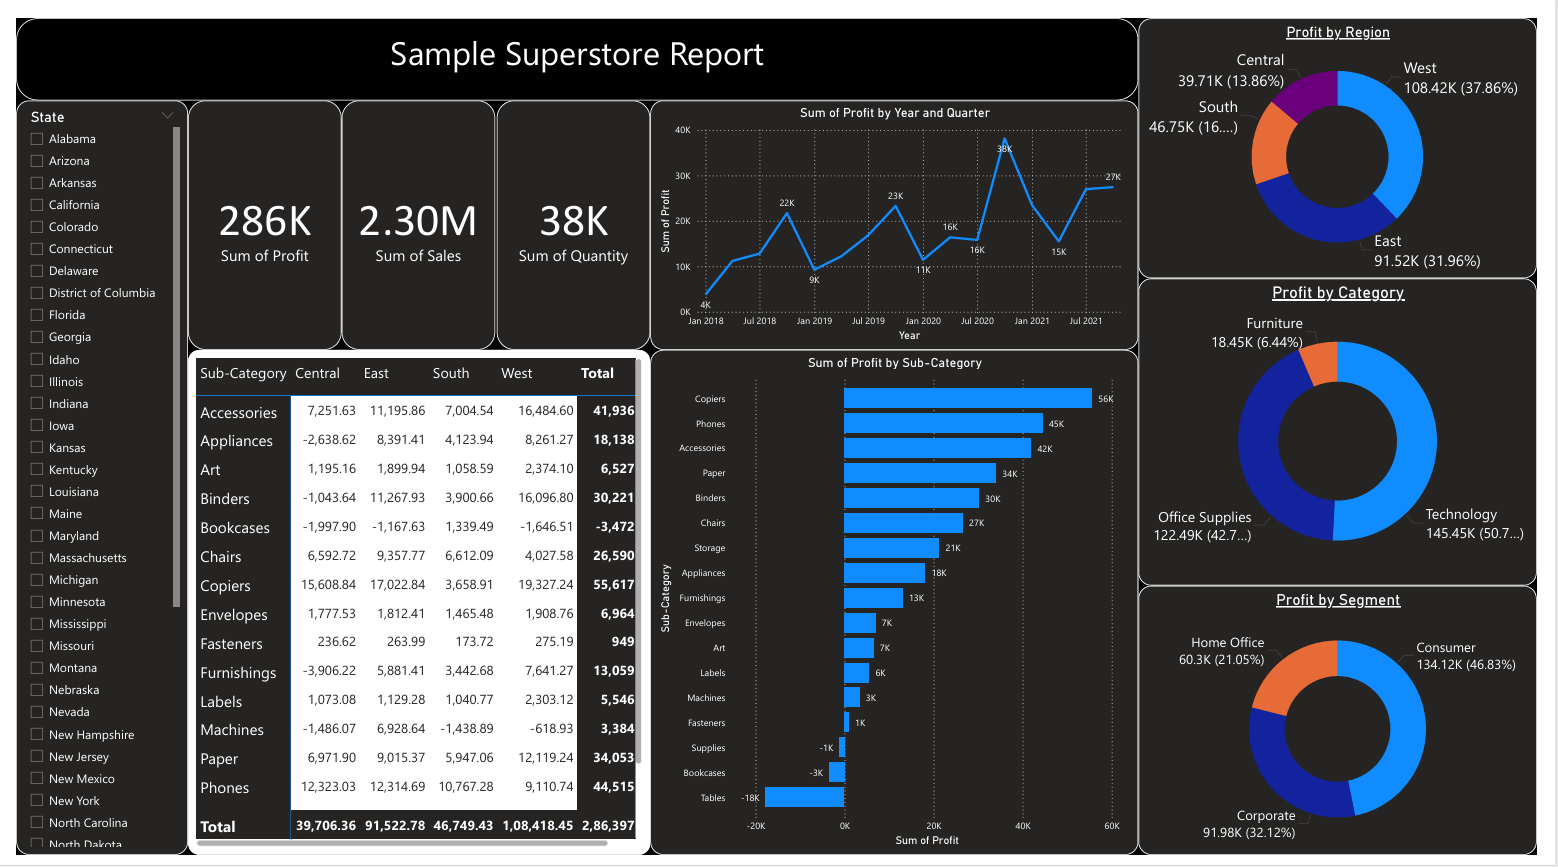

This screenshot's page, from the dashboard's own definition file:
{"tool":"powerbi","page":{"name":"Page 1","canvas":[2000,1100],"ordinal":0},"visuals":[{"type":"textbox","box":[0,0,1476,108],"z":0},{"type":"donutChart","title":" Profit by Segment","fields":{"Category":["Orders.Segment"],"Y":["Sum(Orders.Profit)"]},"box":[1476,746,524,354],"z":1000},{"type":"donutChart","title":" Profit by Category","fields":{"Y":["Sum(Orders.Profit)"],"Category":["Orders.Category"]},"box":[1476,342,524,404],"z":2000},{"type":"donutChart","title":" Profit by Region","fields":{"Y":["Sum(Orders.Profit)"],"Category":["Orders.Region"]},"box":[1476,0,524,342],"z":3000},{"type":"barChart","fields":{"Category":["Orders.Sub-Category"],"Y":["Sum(Orders.Profit)"]},"box":[834,436,642,664],"z":4000},{"type":"lineChart","fields":{"Y":["Sum(Orders.Profit)"],"Category":["Orders.Order Date.Variation.Date Hierarchy.Year","Orders.Order Date.Variation.Date Hierarchy.Quarter"]},"box":[834,108,642,328],"z":5000},{"type":"slicer","fields":{"Values":["Orders.State"]},"box":[0,108,226,992],"z":6000},{"type":"pivotTable","fields":{"Rows":["Orders.Sub-Category"],"Columns":["Orders.Region"],"Values":["Sum(Orders.Profit)"]},"box":[226,436,608,664],"z":7000},{"type":"card","fields":{"Values":["Sum(Orders.Profit)"]},"box":[226,108,202,328],"z":8000},{"type":"card","fields":{"Values":["Sum(Orders.Sales)"]},"box":[428,108,202,328],"z":9000},{"type":"card","fields":{"Values":["Sum(Orders.Quantity)"]},"box":[632,108,202,328],"z":10000}]}

Visuals, with their boxes in screenshot pixels (x1, y1, x2, y2), scaled from the page's 2000x1100 canvas onto the 1558x867 screenshot:
textbox: [0,0,1150,85]
" Profit by Segment" donutChart: [1150,588,1557,866]
" Profit by Category" donutChart: [1150,270,1557,588]
" Profit by Region" donutChart: [1150,0,1557,270]
barChart - Orders.Sub-Category x Sum(Orders.Profit): [650,344,1150,866]
lineChart - Sum(Orders.Profit) x Orders.Order Date.Variation.Date Hierarchy.Year: [650,85,1150,344]
slicer - Orders.State: [0,85,176,866]
pivotTable - Orders.Sub-Category x Orders.Region: [176,344,650,866]
card - Sum(Orders.Profit): [176,85,333,344]
card - Sum(Orders.Sales): [333,85,491,344]
card - Sum(Orders.Quantity): [492,85,650,344]
